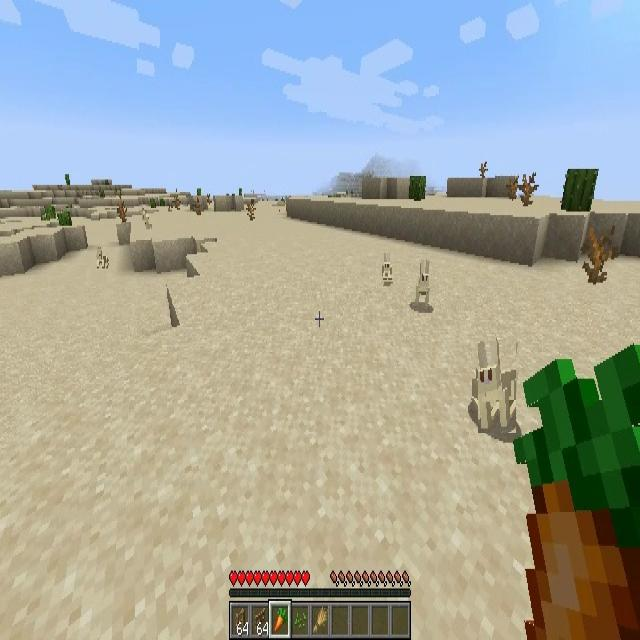rabbit: (478, 341, 516, 433), (415, 260, 430, 305), (380, 253, 394, 286), (96, 247, 109, 267)
